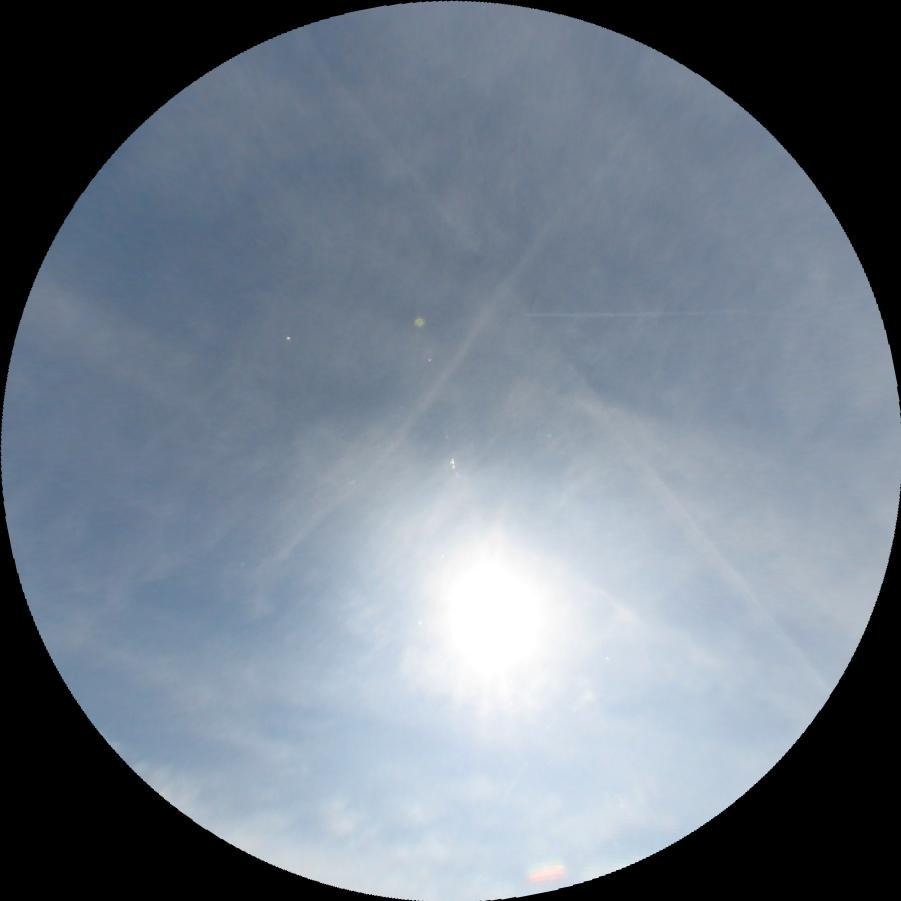contrail old: (281, 26, 841, 698)
contrail veryold: (10, 272, 719, 642), (258, 192, 591, 587)
contrail young: (516, 309, 749, 316)
sun: (416, 534, 571, 712)
